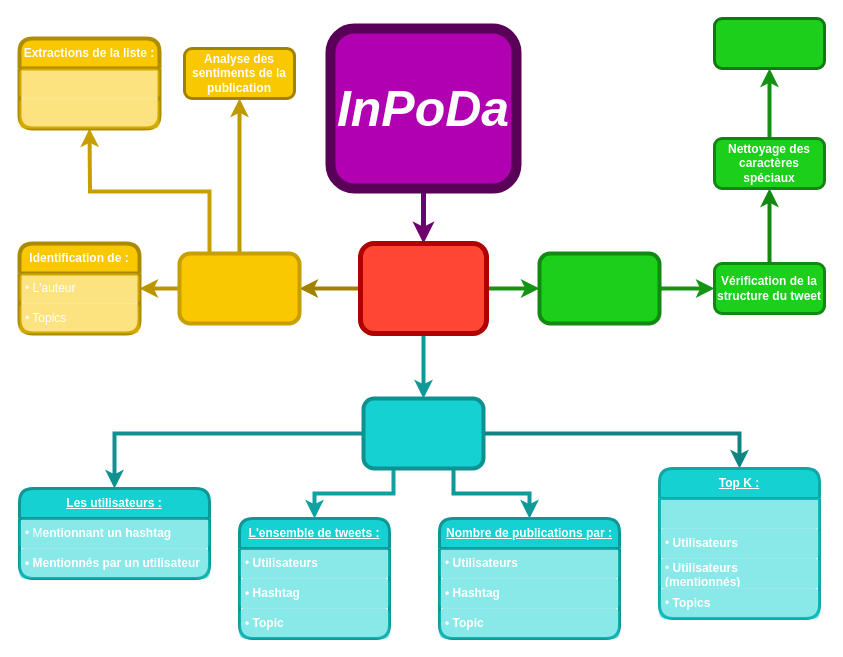
Image size: 843x657. Some labels were removed from this diagram. Here are the shapes that lost their labels. From the top down, the centre of each, then its label:
point (769, 43): Stockage dans "zone d'atterrissage"
point (89, 83): • des hashtags
point (89, 113): • des utilisateurs mentionnés
point (239, 288): Traitement de données
point (423, 288): TWEET
point (599, 288): Publication d'un tweet
point (423, 433): Analyse de données
point (739, 513): • Hashtags
